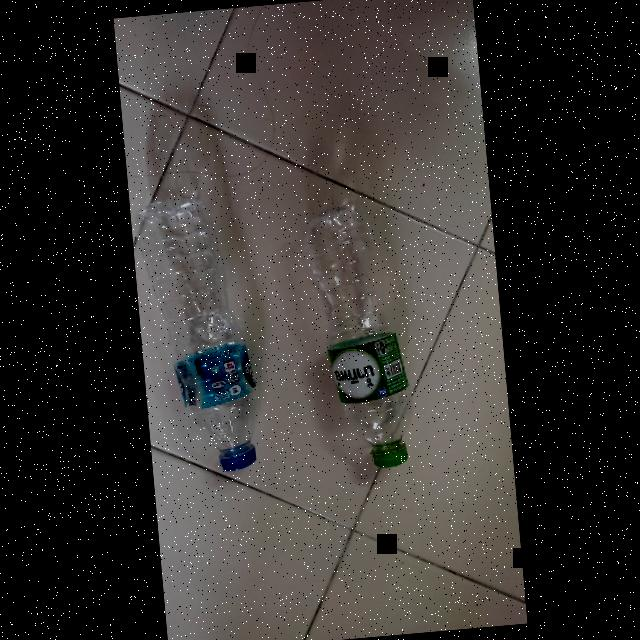plastic_bottle: (128, 182, 270, 479), (296, 175, 425, 474)
